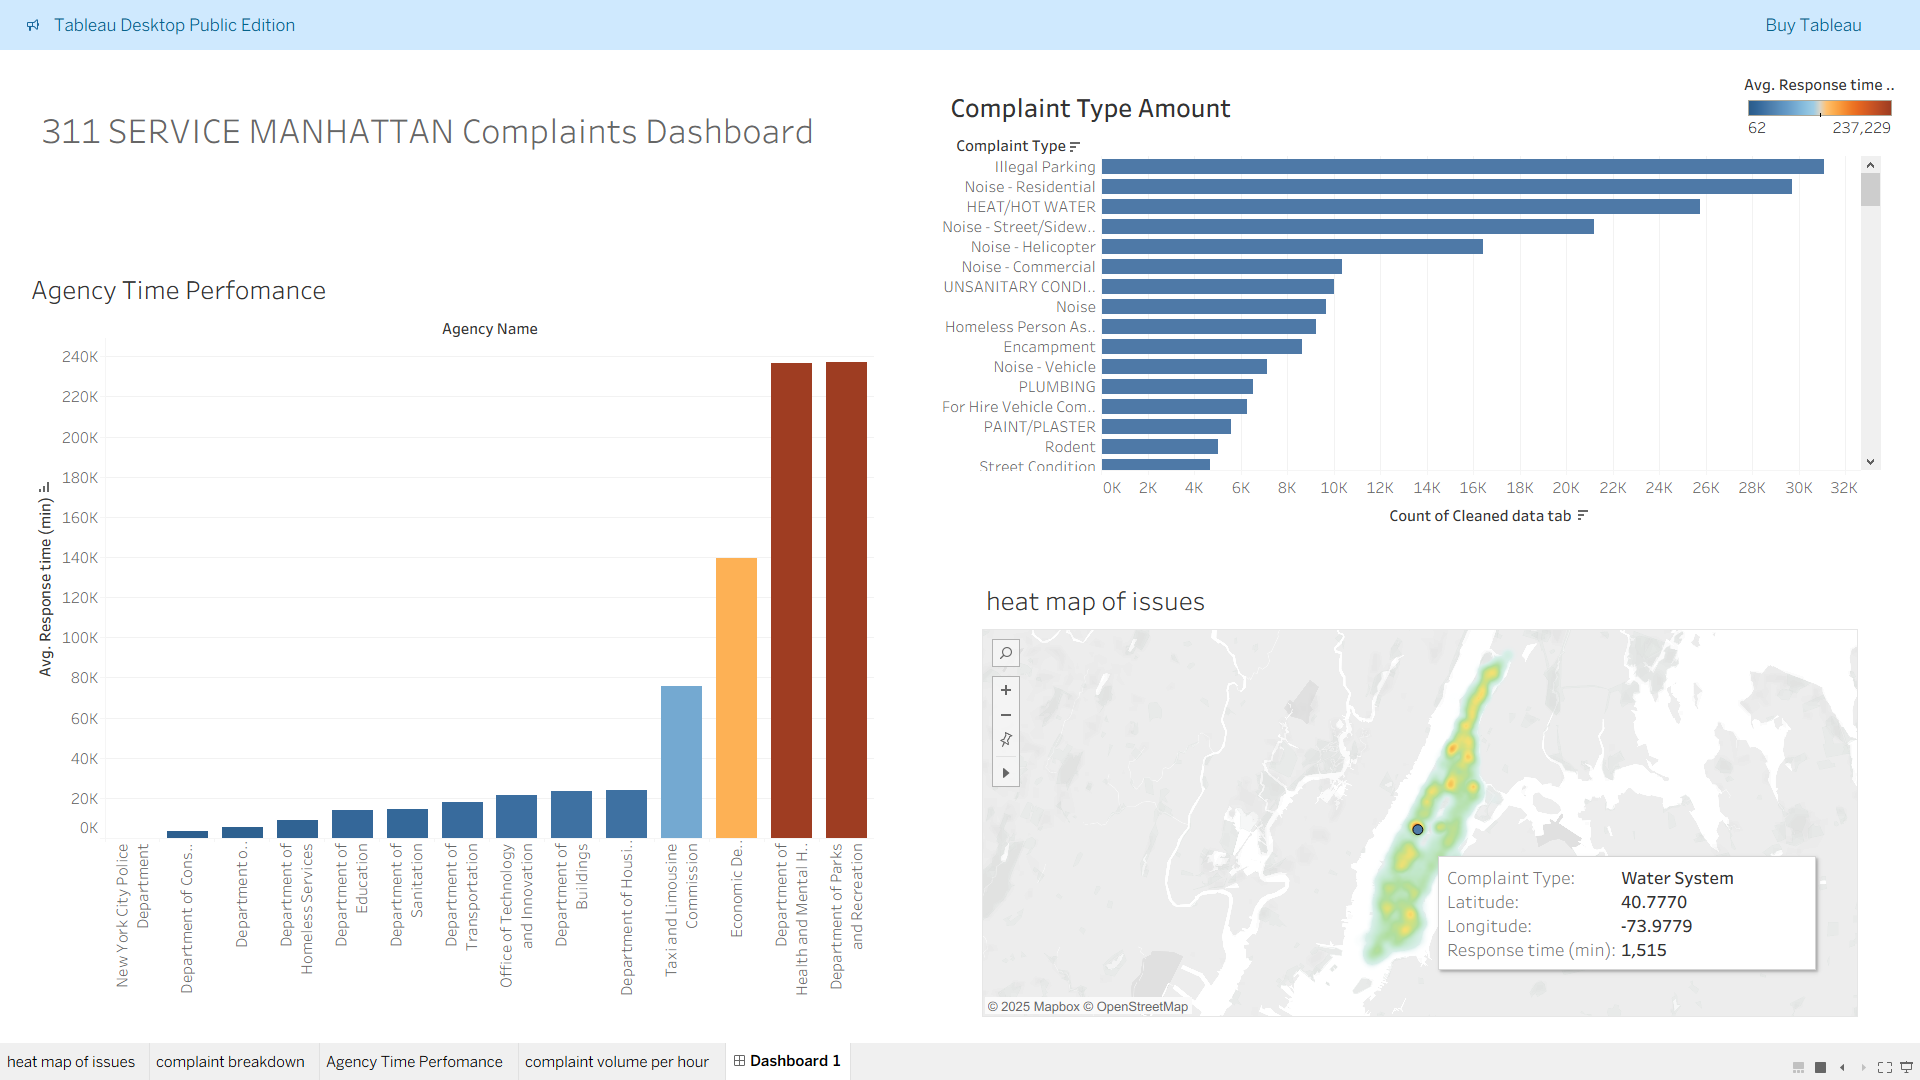

Layout of this report page (visuals, bound fields, positions):
{"tool":"tableau","page":{"name":"Dashboard 1","canvas":[1000,1000],"units":"permille","ordinal":0},"visuals":[{"type":"text","box":[19.9,23.4,977.7,114.7]},{"type":"legend","title":"Agency Time Perfomance","param":"[federated.1mrr8oe06f8ejp1djjfus0avm5f0].[avg:Response time (min):qk]","box":[890.8,24.7,97.1,90]},{"type":"worksheet","title":"complaint breakdown","mark":"Automatic","rows":["Complaint Type"],"cols":["Cleaned data tab _475BACAF05584369983A450DA2FF8F8C"],"box":[488.2,32.1,493.7,471]},{"type":"worksheet","title":"Agency Time Perfomance","mark":"Automatic","rows":["Response time (min)"],"cols":["Agency Name"],"box":[12.1,215.8,445.4,742.3]},{"type":"worksheet","title":"heat map of issues","mark":"Heatmap","rows":["Latitude"],"cols":["Longitude"],"box":[509.4,529,460.5,448.8]}]}

Visuals, with their boxes on the dashboard's canvas, which has no fixed pixel size, in thousandths of its width and height (x1, y1, x2, y2). These are canvas units, not pixel positions in the 1920x1080 screenshot, which may show the page scaled, cropped or inside an application window:
text: left=20, top=23, right=998, bottom=138
"Agency Time Perfomance" legend: left=891, top=25, right=988, bottom=115
"complaint breakdown" worksheet: left=488, top=32, right=982, bottom=503
"Agency Time Perfomance" worksheet: left=12, top=216, right=458, bottom=958
"heat map of issues" worksheet (Heatmap marks): left=509, top=529, right=970, bottom=978
